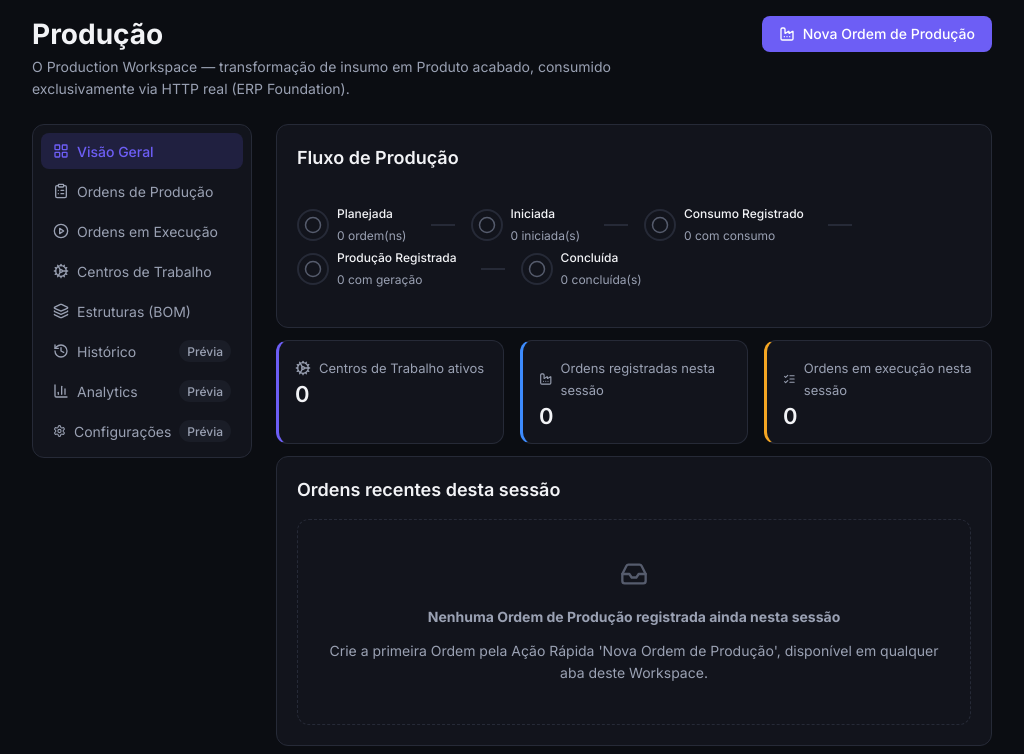
Test: ProductionPage — Production Workspace por seções (IMP-505) › cria uma Composição (BOM) real — aparece na lista desta sessão
Expected: the button "Visão Geral" is shown, [41,133,243,169]
Click the button "Estruturas (BOM)".
click(142, 311)  # box [41,293,243,329]
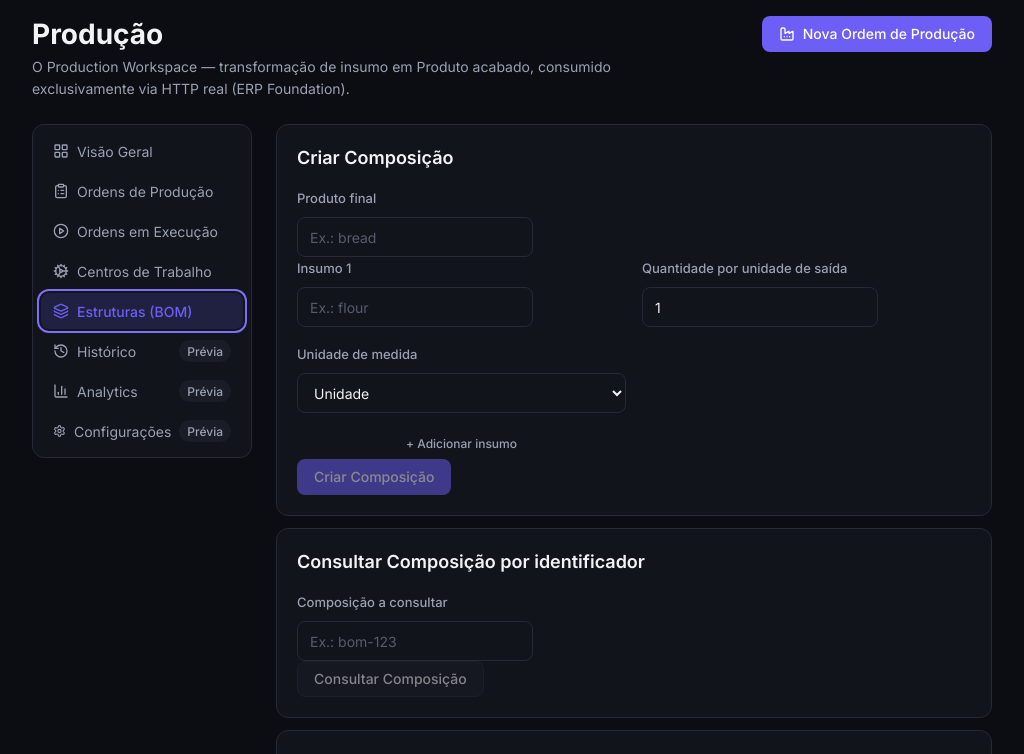
Type "bread" into the field labelled "Produto final".
click(415, 237); type("bread")  # box [297,217,533,257]
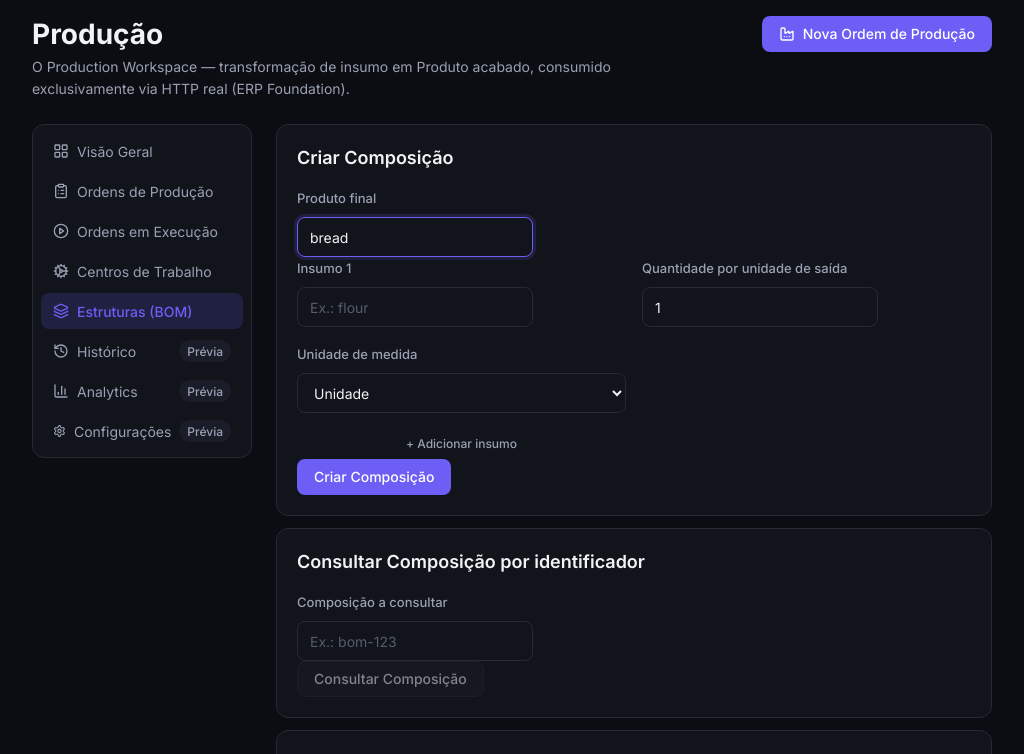
Type "flour" into the field labelled "Insumo 1".
click(415, 307); type("flour")  # box [297,287,533,327]
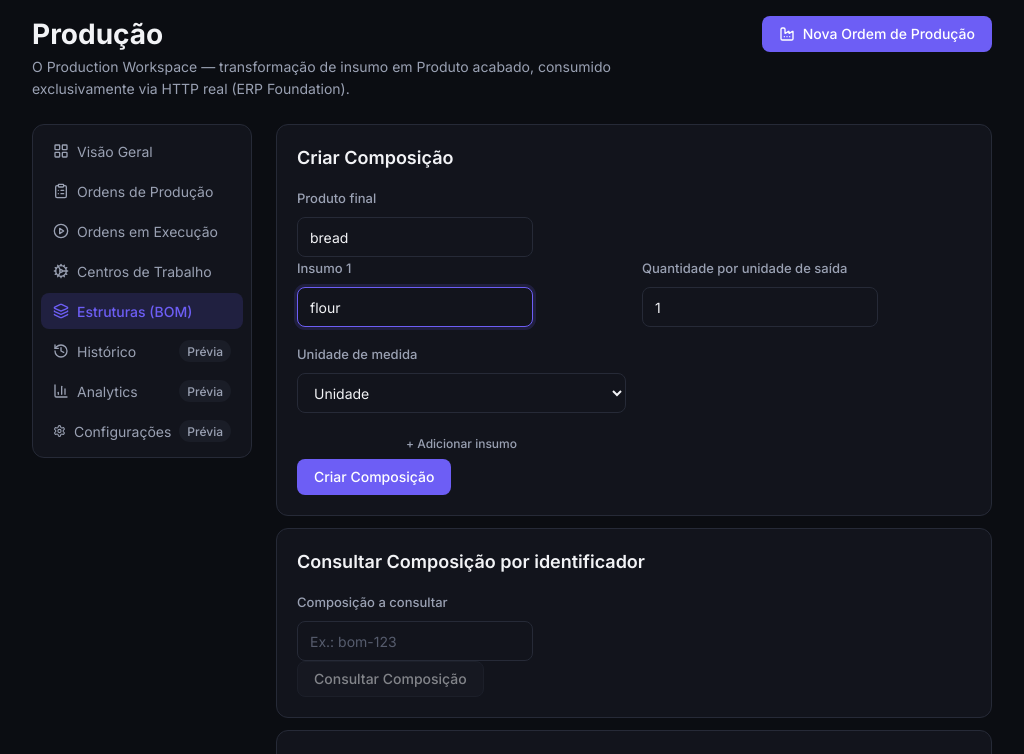
Click the button "Criar Composição".
click(374, 477)  # box [297,459,451,495]
(page scrolled)
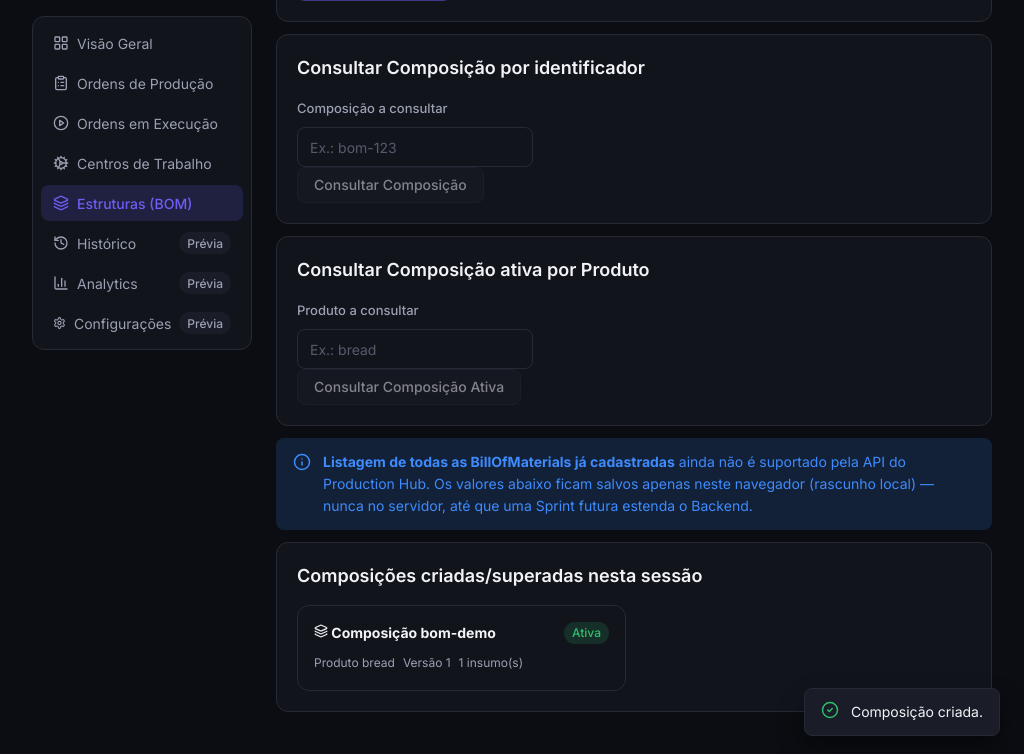
Expected: the text "Composição bom-demo" is shown, [314,622,496,644]
